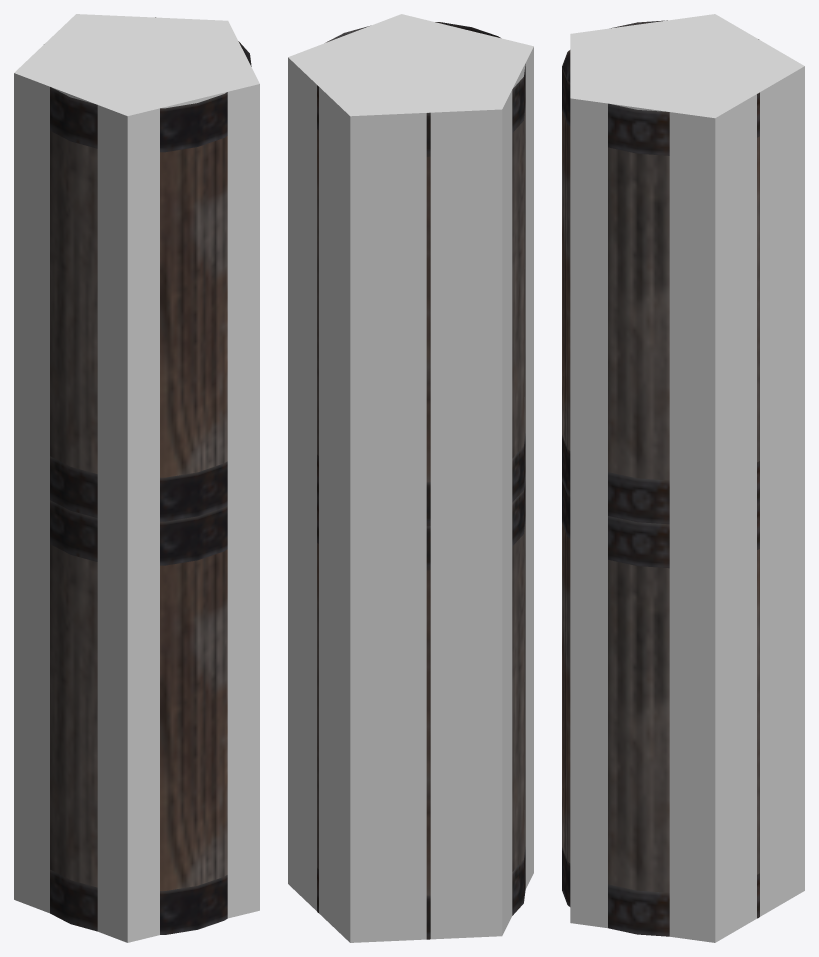
The model's file is JD_Bridge_A_Pole_03.fbx.
3 renders of one model, left to right at view 1: azimuth 30°, elevation 25°; view 2: azimuth 150°, elevation 25°; view 3: azimuth 270°, elevation 25°, orthographic.
Parts seen in each view (by area): view 1: C_JD_Bridge_A_Pole_03, JD_Bridge_A_Pole_03; view 2: C_JD_Bridge_A_Pole_03, JD_Bridge_A_Pole_03; view 3: C_JD_Bridge_A_Pole_03, JD_Bridge_A_Pole_03.
Part boxes in pixels (<box>): C_JD_Bridge_A_Pole_03: <box>14,14,259,942</box>; JD_Bridge_A_Pole_03: <box>50,17,251,934</box>; C_JD_Bridge_A_Pole_03: <box>288,14,533,942</box>; JD_Bridge_A_Pole_03: <box>317,22,525,939</box>; C_JD_Bridge_A_Pole_03: <box>570,14,804,942</box>; JD_Bridge_A_Pole_03: <box>562,20,759,936</box>.
Size of the model in its own units: 0.5423 by 2 by 0.5334.
